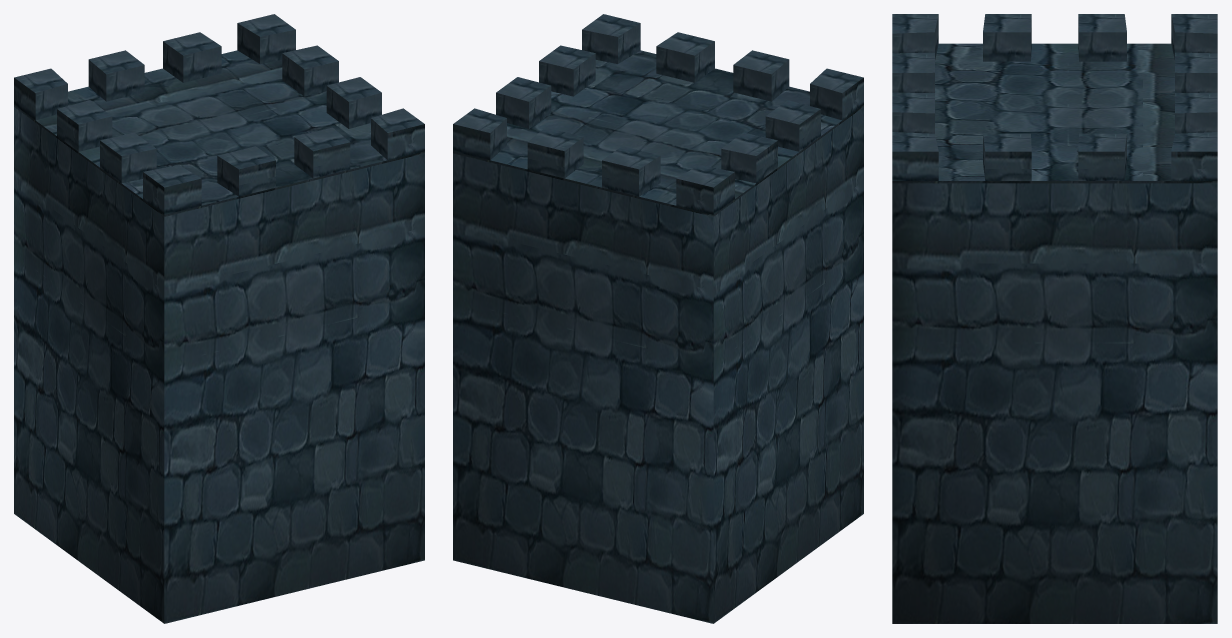
File: wall_turret.obj
3 views of the same model, side by side, from view 1: azimuth 30°, elevation 25°; view 2: azimuth 150°, elevation 25°; view 3: azimuth 270°, elevation 25° (orthographic). The views are drawn at different scales.
Visible parts, largest first — view 1: cube1; view 2: cube1; view 3: cube1.
Part boxes in pixels (x1,y1,x2,y2): cube1: (14,14,424,623); cube1: (453,14,863,623); cube1: (892,14,1217,623).
Size of the model in its own units: 0.162 by 0.2594 by 0.162.
